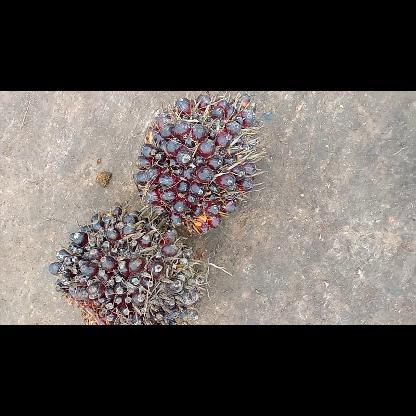TBS mentah: (136, 90, 266, 233), (51, 212, 204, 324)
